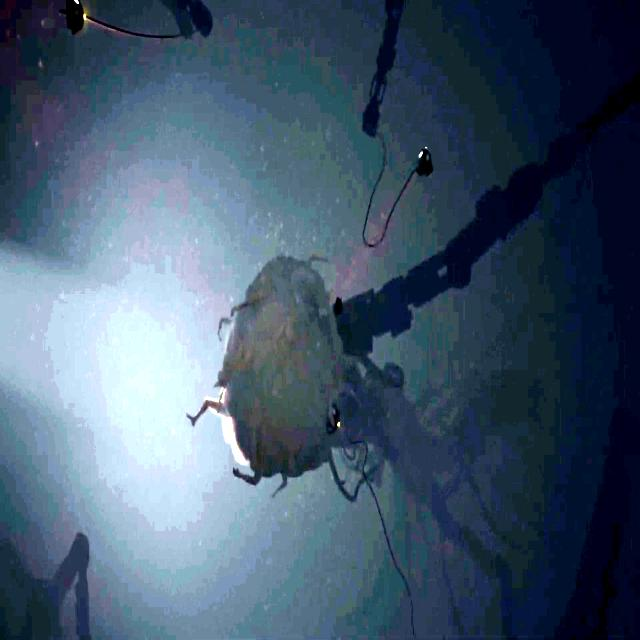blob: (189, 256, 344, 484)
interactible: (321, 393, 342, 438), (64, 0, 87, 36), (410, 147, 434, 179)
mechanism: (336, 89, 624, 355), (16, 527, 90, 640), (360, 0, 401, 142)
